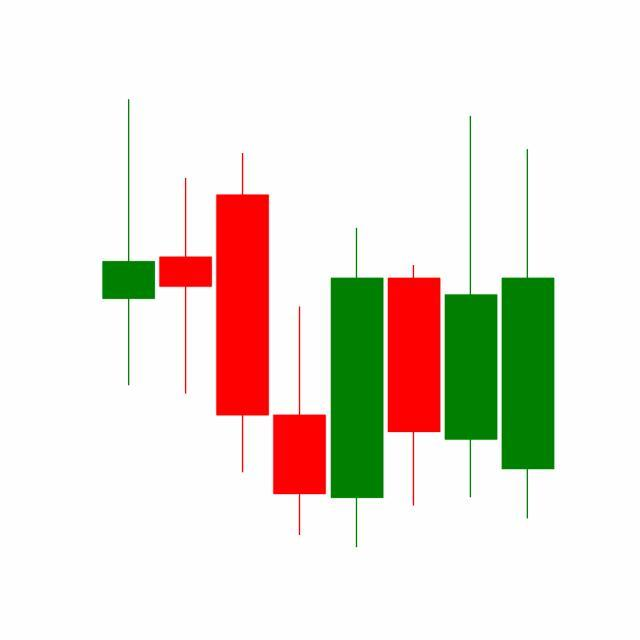Hikkake Pattern: (214, 111, 501, 548)
